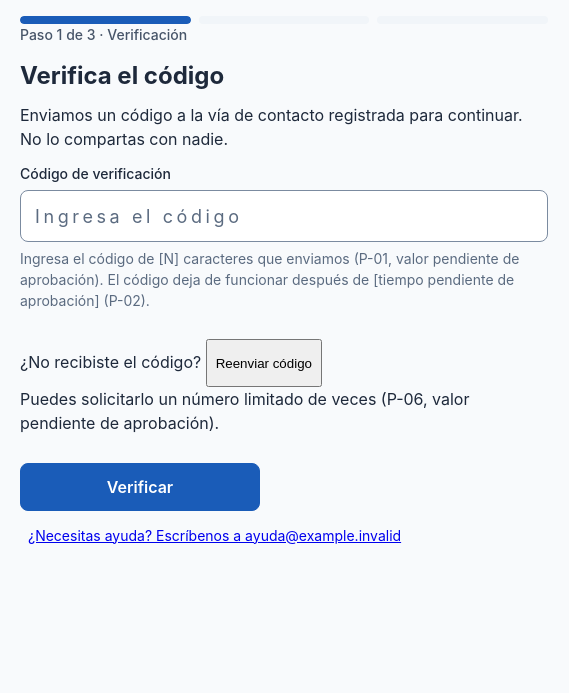
/verify scope DECISION (equivale a verify-page.ts + verify.js) › TEST-CNS-1908: OTP_LOCKED en scope DECISION muestra #state-locked con 'Solicitar nuevo código'
Type "123456" into the field labelled "Código de verificación". click: (284, 216)
box: [20,190,548,242]
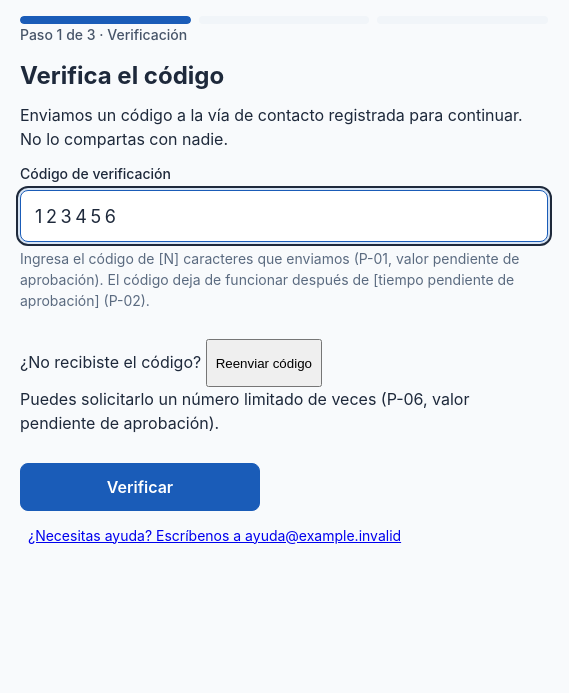
Click the button "Verificar". click: (140, 487)
box: [20,463,260,511]
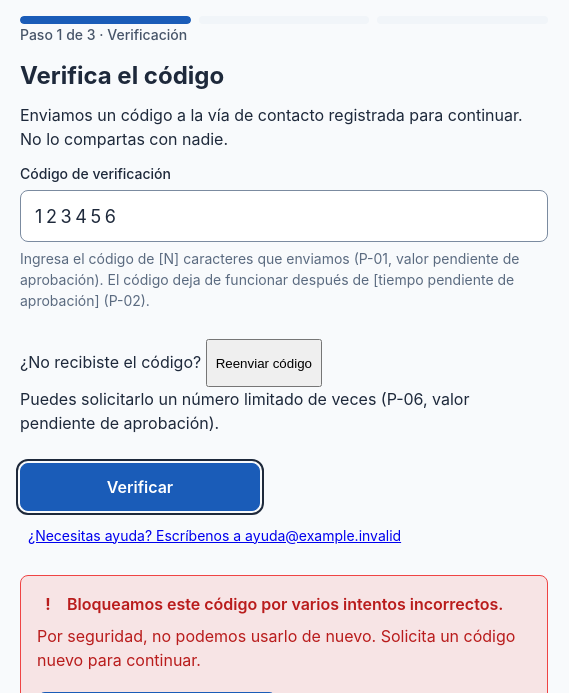
Now the message shows "Bloqueamos este código por varios intentos incorrectos.", box [67,594,503,614]
